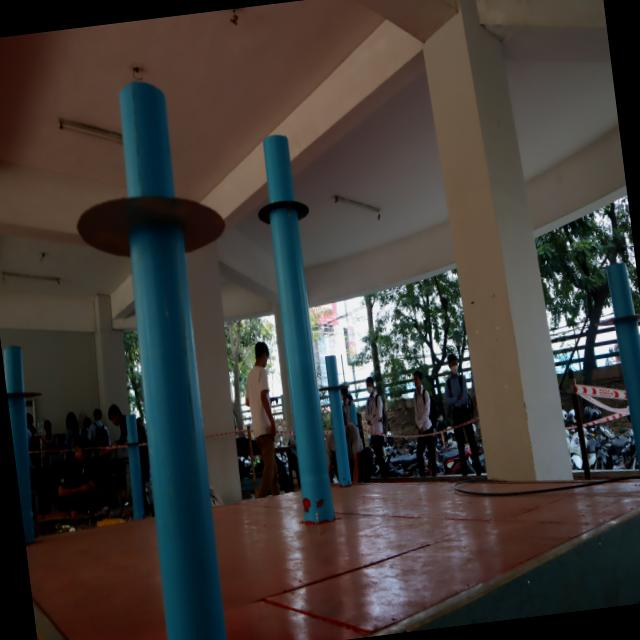pole: (62, 67, 243, 340), (244, 130, 316, 256), (593, 259, 640, 370), (0, 340, 44, 436), (316, 353, 354, 422), (116, 414, 156, 469)
